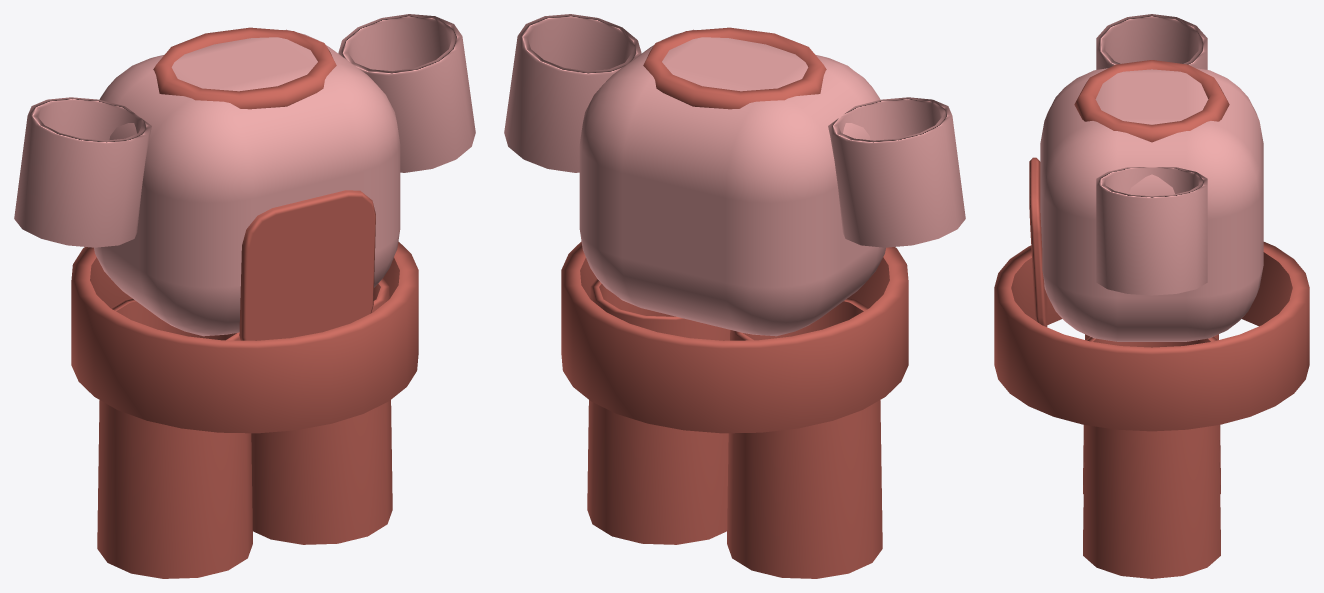
File: alpinist_overalls.glb
3 renders of one model, left to right at view 1: azimuth 30°, elevation 25°; view 2: azimuth 150°, elevation 25°; view 3: azimuth 270°, elevation 25°, orthographic. The views are drawn at different scales.
Parts seen in each view (by area): view 1: alpinist_overalls_Body, alpinist_overalls_LegL, alpinist_overalls_ArmL, alpinist_overalls_LegR, alpinist_overalls_ArmR; view 2: alpinist_overalls_Body, alpinist_overalls_LegL, alpinist_overalls_LegR, alpinist_overalls_ArmL, alpinist_overalls_ArmR; view 3: alpinist_overalls_Body, alpinist_overalls_LegR, alpinist_overalls_ArmR, alpinist_overalls_ArmL.
Boxes of the visible parts, x1,y1,x2,y2 form: alpinist_overalls_Body: (71, 27, 418, 433); alpinist_overalls_LegL: (97, 298, 252, 578); alpinist_overalls_ArmL: (14, 97, 151, 247); alpinist_overalls_LegR: (251, 278, 392, 544); alpinist_overalls_ArmR: (338, 14, 475, 172); alpinist_overalls_Body: (561, 27, 908, 433); alpinist_overalls_LegL: (727, 298, 882, 578); alpinist_overalls_LegR: (587, 278, 730, 544); alpinist_overalls_ArmL: (828, 97, 965, 247); alpinist_overalls_ArmR: (504, 14, 641, 172); alpinist_overalls_Body: (994, 60, 1309, 431); alpinist_overalls_LegR: (1083, 336, 1220, 578); alpinist_overalls_ArmR: (1096, 167, 1207, 295); alpinist_overalls_ArmL: (1096, 14, 1207, 69).
Bounding box in the file's own units: 0.6053 × 0.6069 × 0.41.
